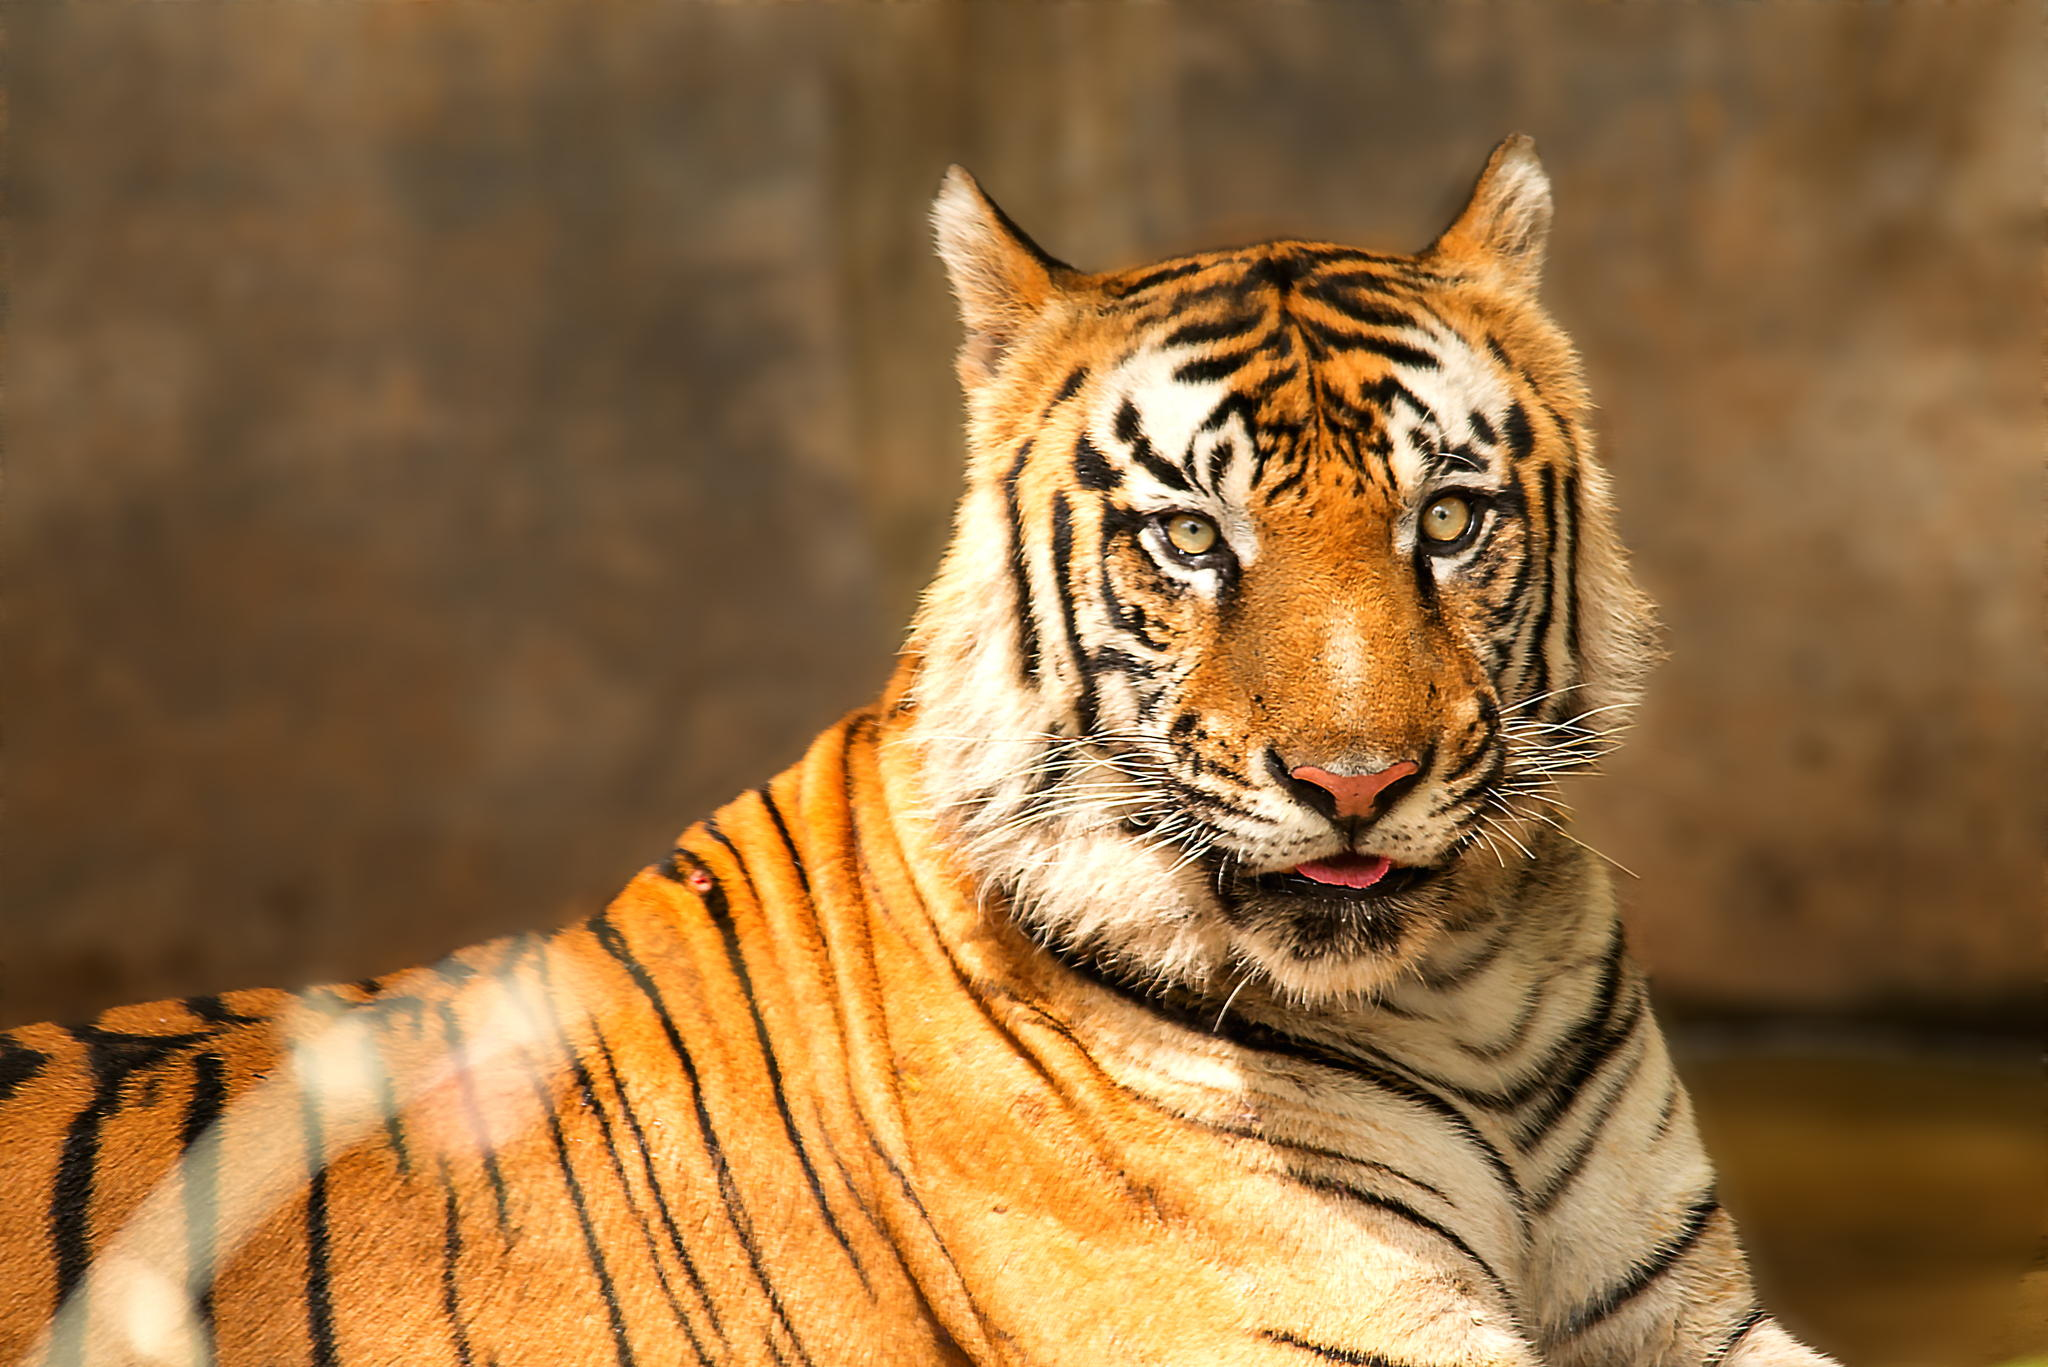tiger: (154, 134, 1880, 1295)
